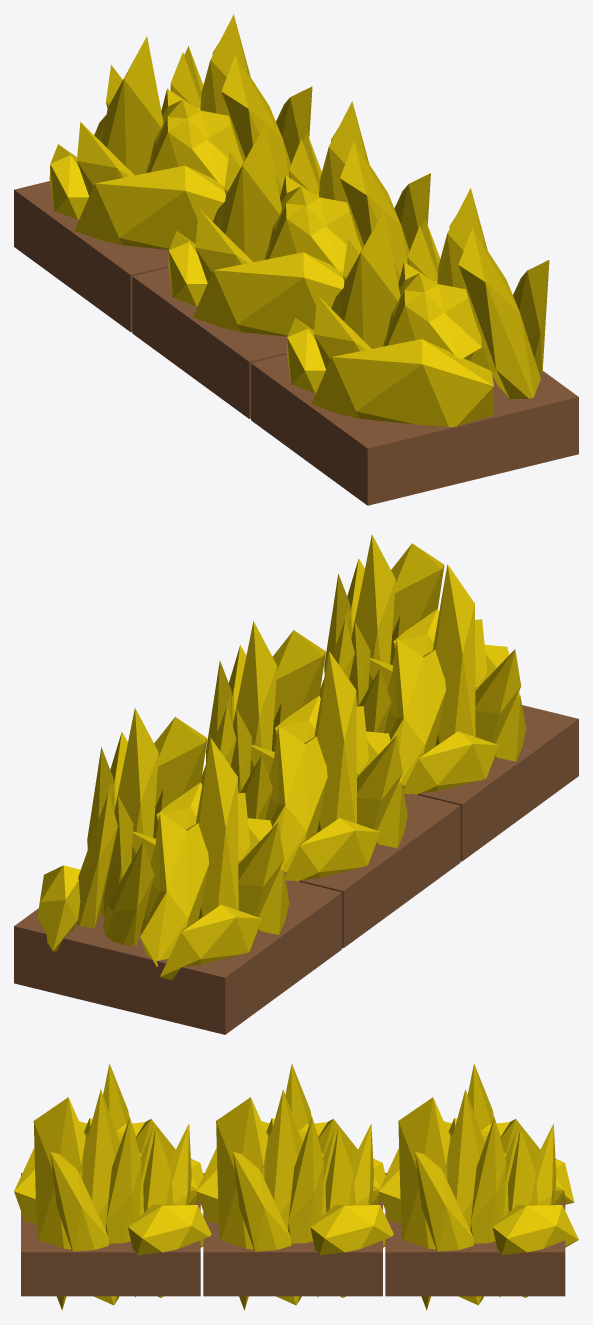
File: AltinCikintili.fbx
3 renders of one model, top to bottom at view 1: azimuth 30°, elevation 25°; view 2: azimuth 150°, elevation 25°; view 3: azimuth 270°, elevation 25°, orthographic. The views are drawn at different scales.
Parts seen in each view (by area): view 1: AltinCikintili.001, AltinCikintili, AltinCikintili.002; view 2: AltinCikintili, AltinCikintili.001, AltinCikintili.002; view 3: AltinCikintili, AltinCikintili.001, AltinCikintili.002.
Part boxes in pixels (<box>): AltinCikintili.001: <box>251,188,578,505</box>; AltinCikintili: <box>14,14,312,332</box>; AltinCikintili.002: <box>132,101,430,418</box>; AltinCikintili: <box>14,708,341,1034</box>; AltinCikintili.001: <box>319,534,578,861</box>; AltinCikintili.002: <box>201,621,460,948</box>; AltinCikintili: <box>378,1063,578,1310</box>; AltinCikintili.001: <box>14,1063,211,1310</box>; AltinCikintili.002: <box>196,1063,393,1310</box>.
Bounding box in the file's own units: 0.6707 × 0.8036 × 1.95.
